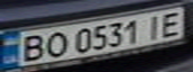0: (72, 25, 93, 54)
1: (121, 17, 145, 44)
3: (106, 20, 127, 47)
5: (90, 21, 112, 51)
B: (15, 33, 48, 63)
E: (154, 8, 190, 38)
I: (139, 11, 169, 39)
O: (39, 29, 69, 58)
